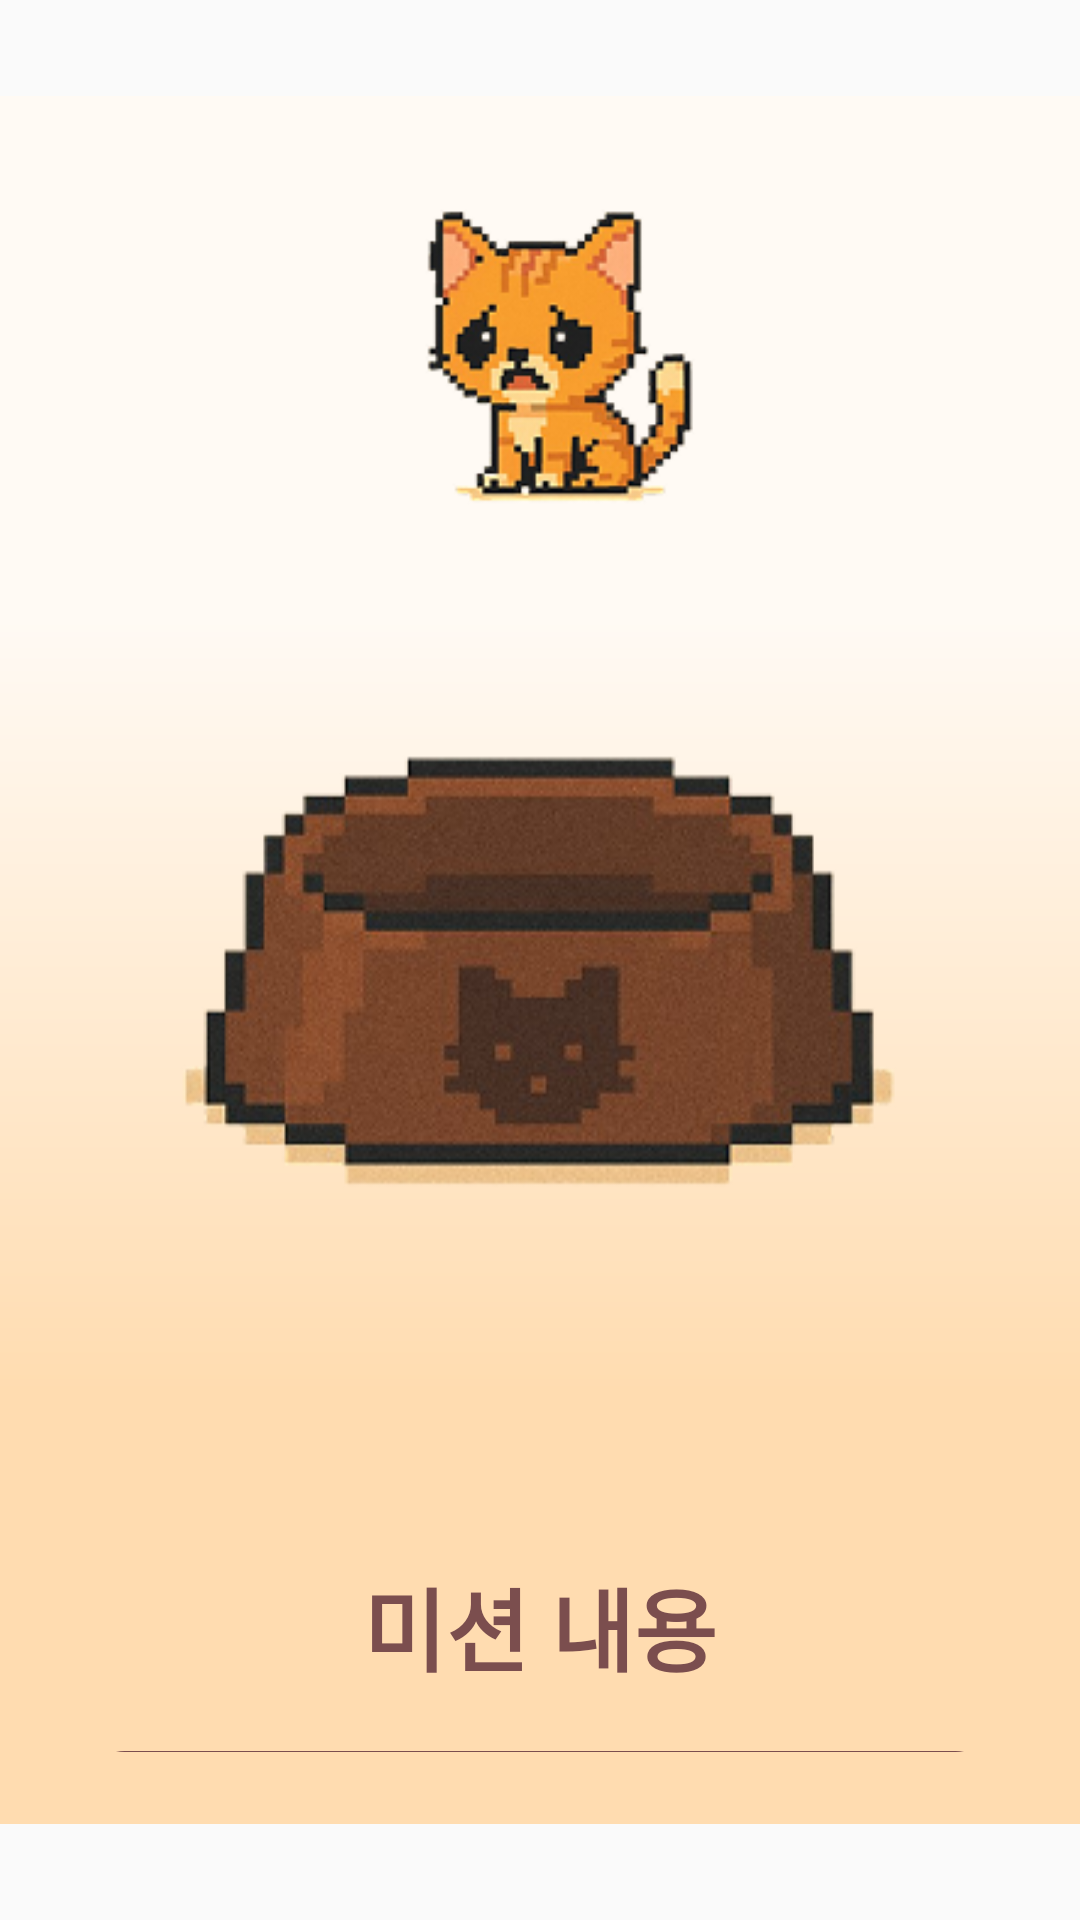

Screen size 1080×1920. Icon name, then its center in pixels as (x,y):
missioncat: (560,356)
